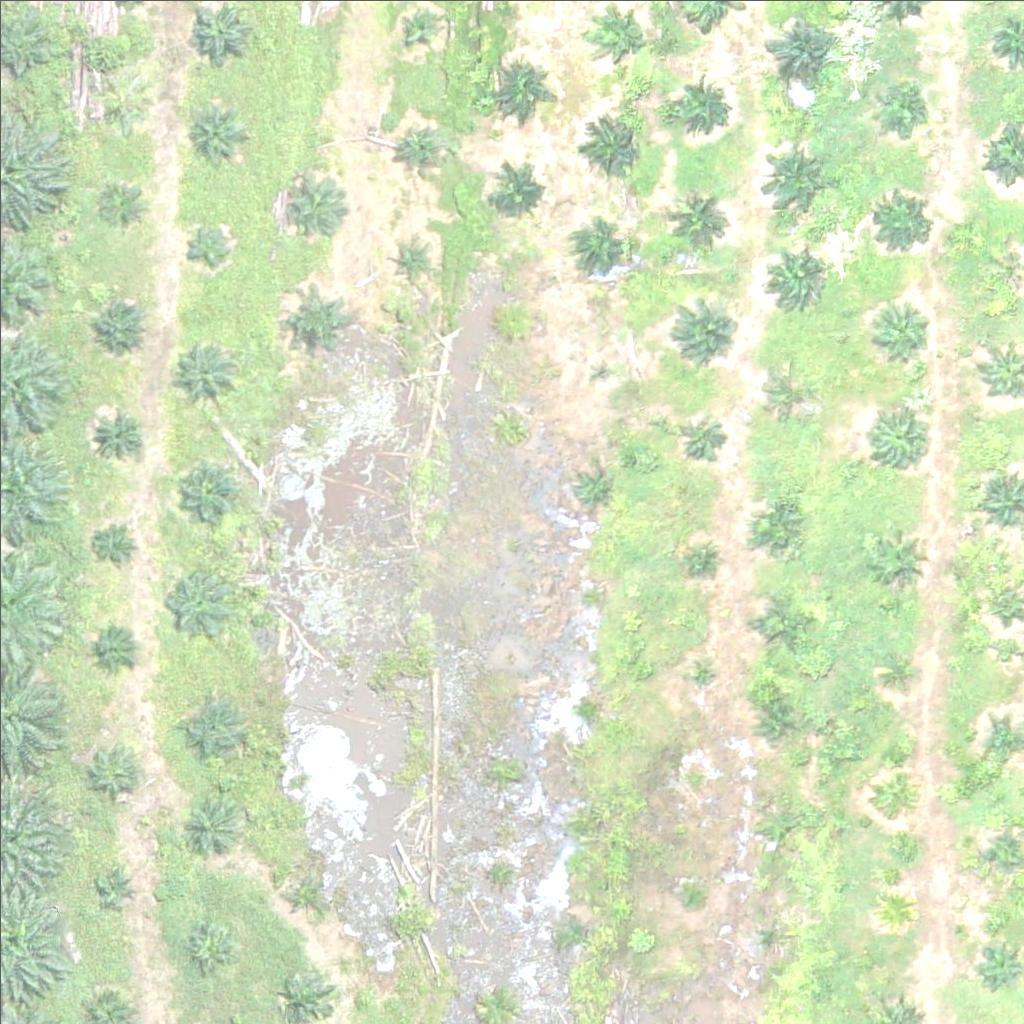Kelapa_Sawit: (663, 56, 738, 132), (760, 137, 835, 213), (667, 284, 742, 360), (659, 182, 734, 258), (762, 6, 837, 81), (160, 568, 235, 643), (274, 176, 337, 239), (285, 292, 348, 355), (570, 220, 633, 283), (176, 453, 239, 516), (187, 104, 250, 167), (86, 403, 149, 466), (485, 58, 547, 121), (486, 158, 548, 221), (868, 188, 930, 251), (581, 113, 644, 175), (765, 246, 827, 309), (868, 524, 930, 587), (748, 491, 810, 554), (870, 404, 932, 467), (866, 293, 928, 356), (177, 793, 239, 856), (178, 696, 240, 759), (176, 342, 238, 405), (90, 291, 152, 354), (749, 590, 811, 653), (87, 748, 137, 799), (96, 186, 146, 237), (97, 89, 147, 140), (181, 224, 231, 275), (91, 624, 141, 675), (679, 410, 729, 461), (598, 16, 648, 66), (879, 83, 929, 133), (183, 921, 233, 971), (395, 127, 445, 177), (764, 366, 814, 416), (87, 517, 137, 567), (565, 463, 615, 513), (390, 241, 428, 279), (400, 3, 438, 41), (280, 875, 318, 913), (877, 890, 915, 928), (97, 866, 135, 904), (493, 301, 531, 339), (679, 653, 717, 691), (755, 701, 793, 739), (875, 768, 913, 806), (876, 648, 914, 686), (759, 810, 797, 848), (751, 916, 788, 954), (690, 549, 715, 575), (678, 889, 703, 914), (586, 360, 611, 385)
